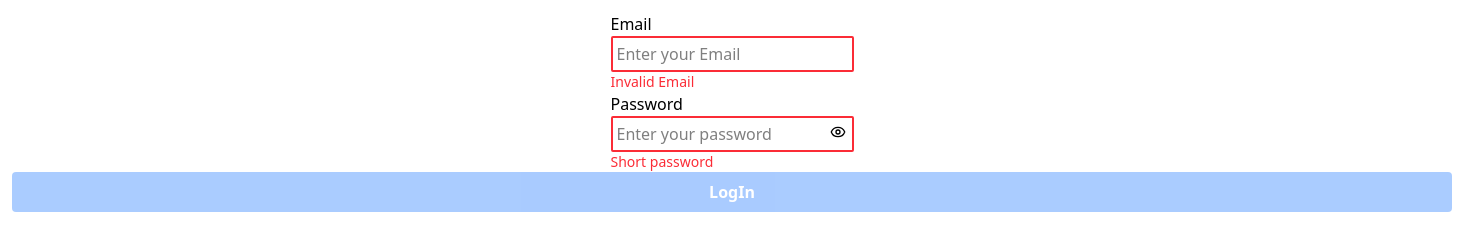
Test: Login Component › test password input › should hide password icon be in document when toogle clicked
Clear the password field with test id "password". click: (732, 134)
box: [610,116,854,152]
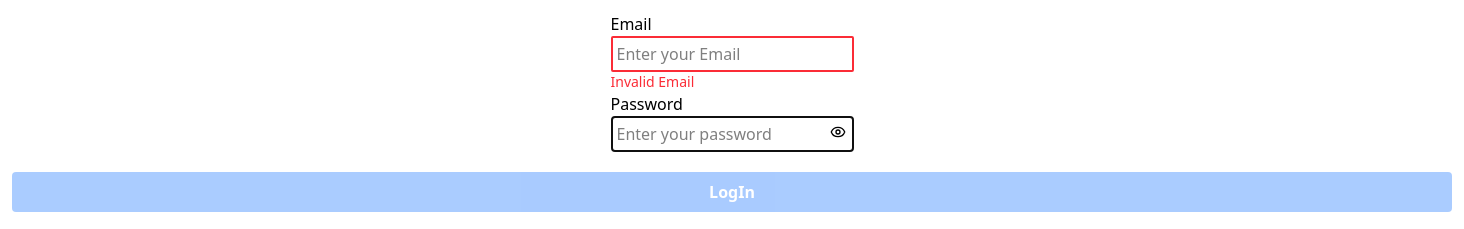
Click the element with test id "toogle". click: (838, 132)
box: [830,124,846,140]
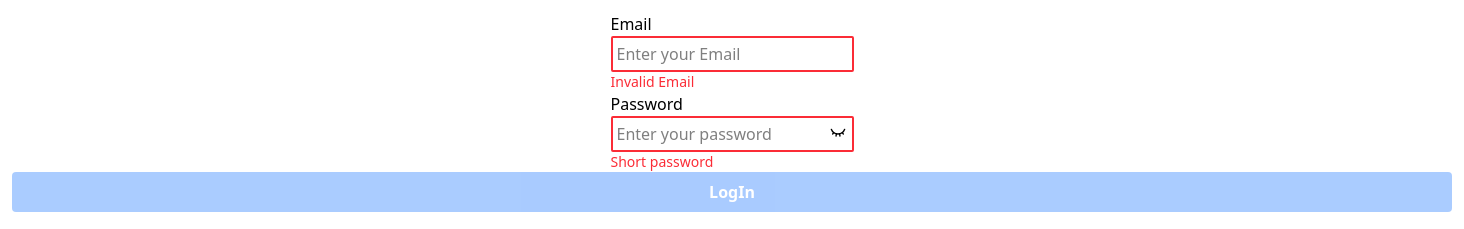
Expected: the icon with test id "lueeyeclosed" is shown, [830,124,846,140]
